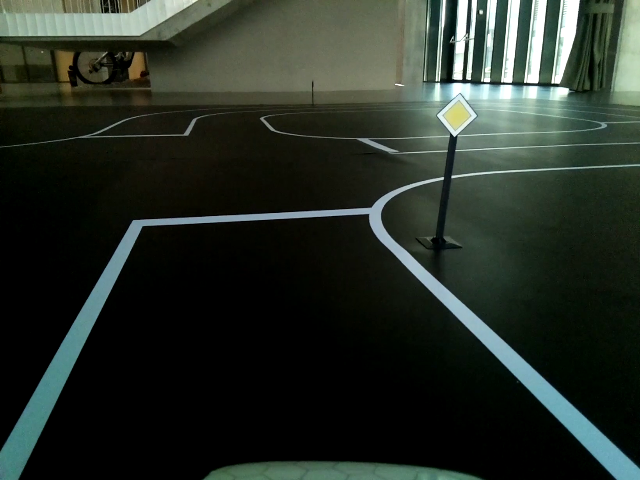priority: (435, 92, 478, 139)
